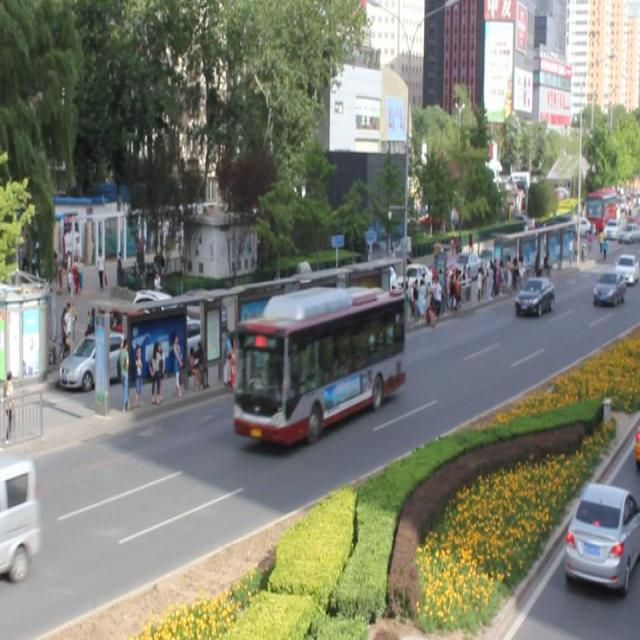car: (513, 276, 554, 317), (592, 270, 623, 306)
truck: (1, 448, 41, 576)
van: (236, 287, 406, 437)
